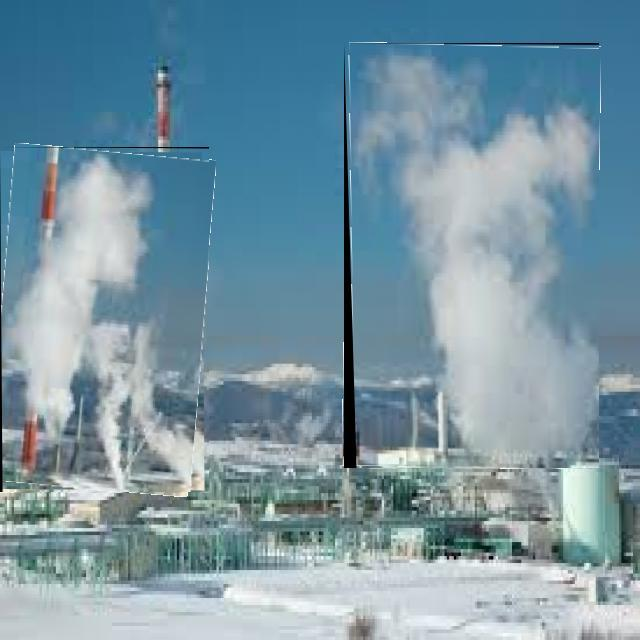smoke: (406, 208, 597, 456), (356, 59, 483, 202), (8, 245, 94, 435), (58, 156, 158, 303), (482, 105, 596, 230), (131, 321, 191, 489), (86, 324, 130, 486)
